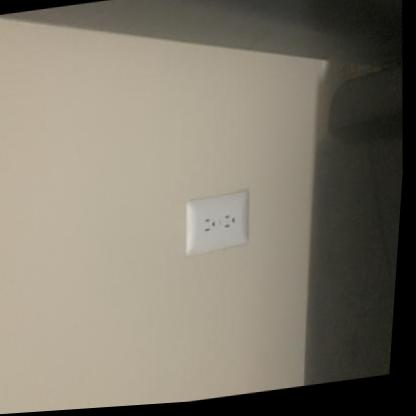OUTLET: (182, 190, 252, 257)
